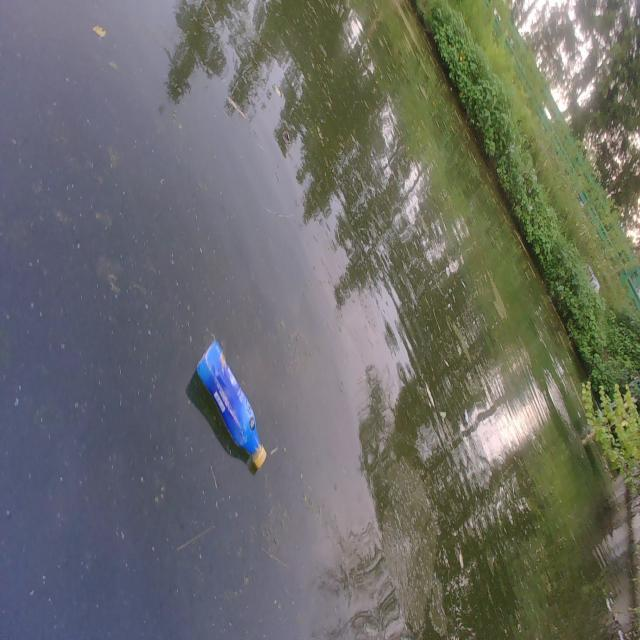bottle: (170, 297, 289, 488)
